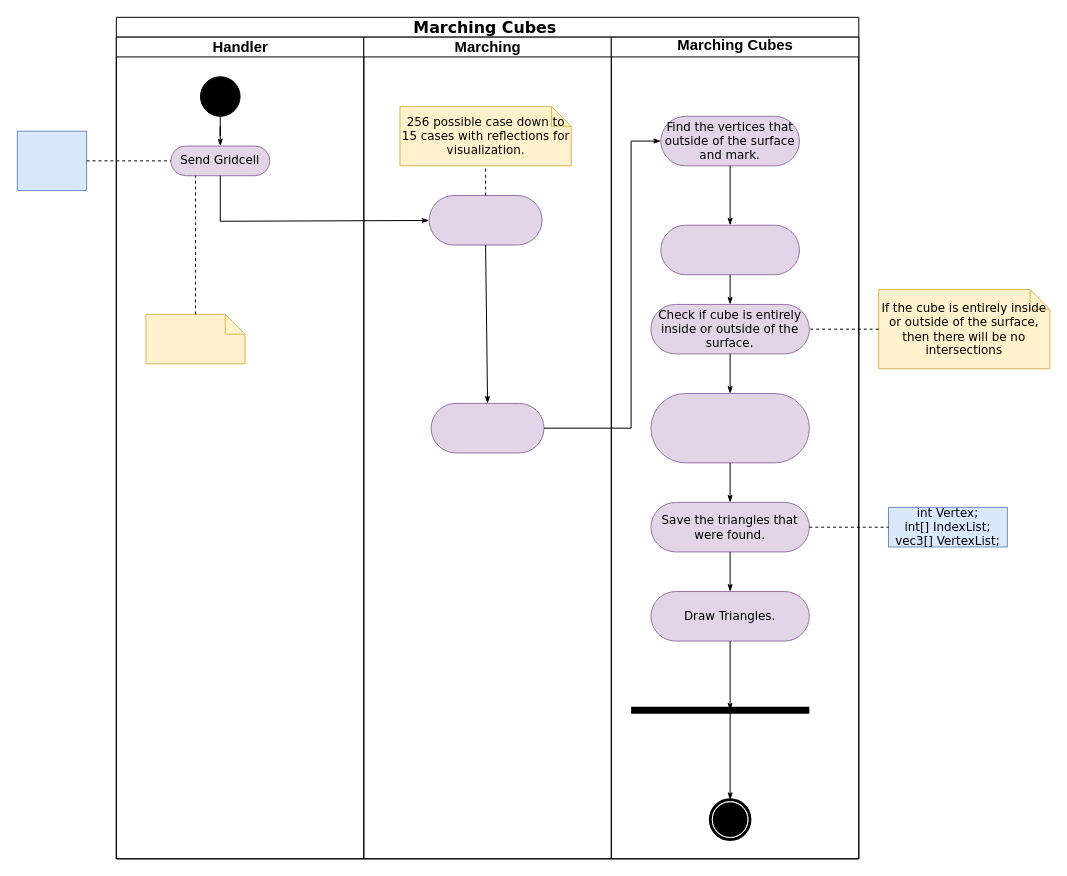
This 1067x876 diagram has some shape labels left out. The centre of each missing label's shape, as x and y in pixels:
Find the point of intersection of the surface with each edge.: (x=729, y=428)
Find which edges are intersected by the surface.: (x=729, y=249)
Get the vertices in the 8 neighbours.: (x=485, y=220)
Perform Marching Cubes Algorithm.: (x=487, y=427)
Send gridcell vertices and isolevel.: (x=195, y=338)
Struct Cube[]; Float Surface: (x=51, y=160)
